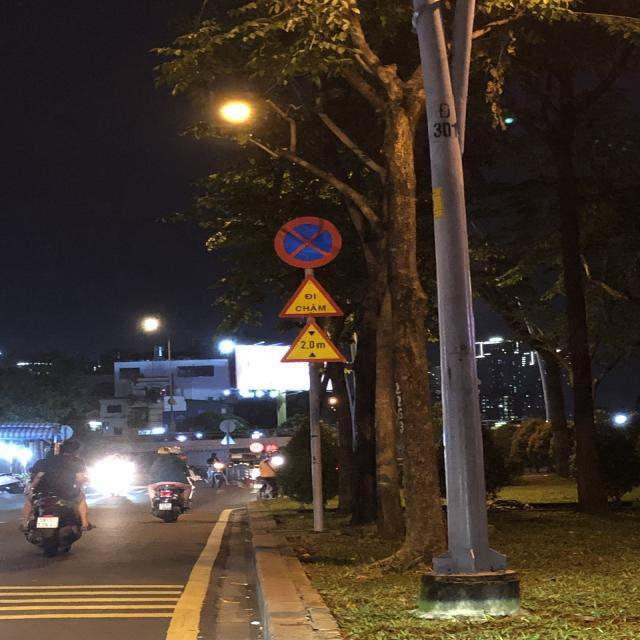Bien bao cam dung xe va do xe: (262, 215, 355, 269)
Bien bao chieu cao tinh khong thuc te: (268, 320, 358, 368)
Bien bao di cham: (272, 274, 346, 318)
